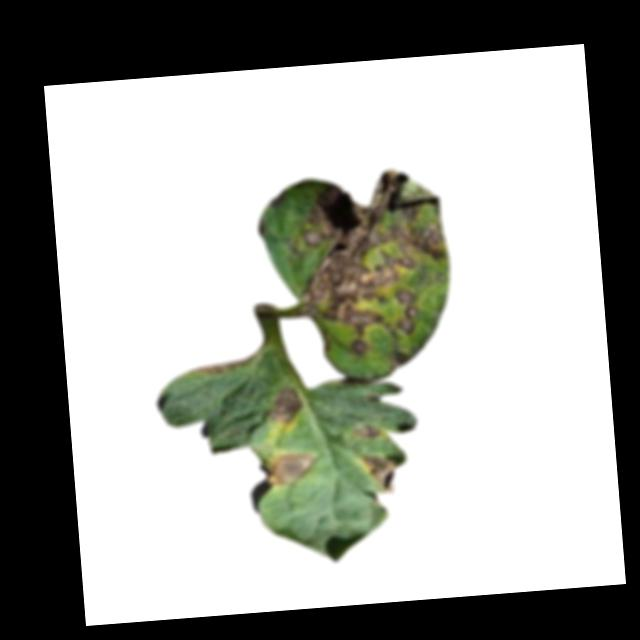Early_blight: (286, 167, 454, 361), (263, 448, 316, 489), (357, 453, 403, 494), (266, 386, 305, 426), (187, 355, 251, 376), (388, 349, 409, 373), (354, 424, 380, 440)
